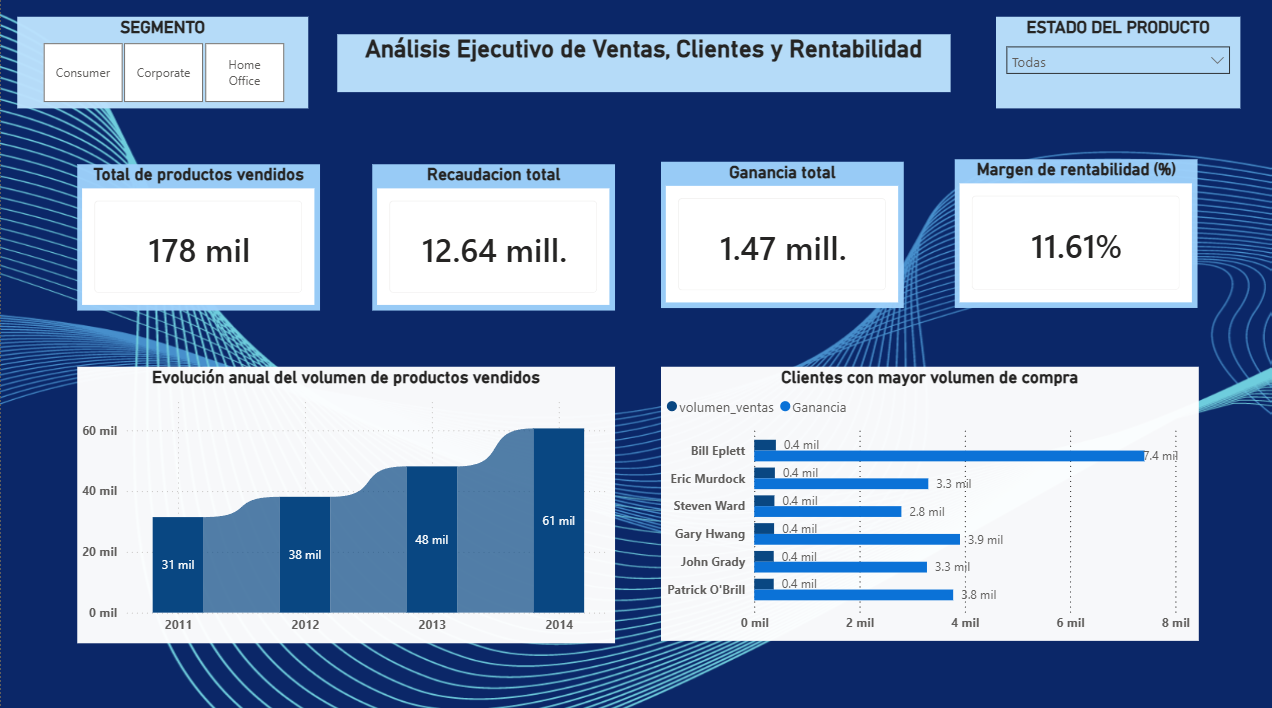

This screenshot's page, from the dashboard's own definition file:
{"tool":"powerbi","page":{"name":"RESUMEN EJECUTIVO","canvas":[1280,720],"ordinal":0},"visuals":[{"type":"cardVisual","title":"Total de productos vendidos","fields":{"Data":["Global_Superstore2.volumen_ventas"]},"box":[76.4,170.4,241.8,145.3],"z":0},{"type":"cardVisual","title":"Recaudacion total","fields":{"Data":["Global_Superstore2.recaudacion"]},"box":[369.5,170.4,241.8,145.3],"z":1000},{"type":"cardVisual","title":"Ganancia total","fields":{"Data":["Global_Superstore2.ganancia"]},"box":[656.4,167.9,241.8,145.3],"z":2000},{"type":"cardVisual","title":"Margen de rentabilidad (%)","fields":{"Data":["Global_Superstore2.%rentabilidad"]},"box":[949.5,165.4,241.8,147.8],"z":3000},{"type":"ribbonChart","title":"Evolución anual del volumen de productos vendidos","fields":{"Category":["Global_Superstore2.Order Date.Variación.Jerarquía de fechas.Año"],"Y":["Global_Superstore2.volumen_ventas"]},"box":[75.9,371.9,534.9,274.9],"z":4000},{"type":"clusteredBarChart","title":"Clientes con mayor volumen de compra","fields":{"Category":["Global_Superstore2.Customer Name"],"Y":["Global_Superstore2.volumen_ventas","Global_Superstore2.ganancia"]},"box":[656.4,372.1,534.9,273.1],"z":5000},{"type":"textbox","title":"Análisis Ejecutivo de Ventas, Clientes y Rentabilidad","box":[334.5,41.3,610.1,57.6],"z":6000},{"type":"slicer","title":"SEGMENTO","fields":{"Values":["Global_Superstore2.Segment"]},"box":[16.3,23.8,289.4,91.4],"z":7000},{"type":"slicer","title":"ESTADO DEL PRODUCTO","fields":{"Values":["Global_Superstore2.Order Priority"]},"box":[989.6,23.8,243,91.4],"z":8000}]}

Visuals, with their boxes in screenshot pixels (x1, y1, x2, y2), scaled from the page's 1280x720 canvas onto the 1272x708 screenshot:
"Total de productos vendidos" cardVisual: (x1=76, y1=168, x2=316, y2=310)
"Recaudacion total" cardVisual: (x1=367, y1=168, x2=607, y2=310)
"Ganancia total" cardVisual: (x1=652, y1=165, x2=893, y2=308)
"Margen de rentabilidad (%)" cardVisual: (x1=944, y1=163, x2=1184, y2=308)
"Evolución anual del volumen de productos vendidos" ribbonChart: (x1=75, y1=366, x2=607, y2=636)
"Clientes con mayor volumen de compra" clusteredBarChart: (x1=652, y1=366, x2=1184, y2=634)
"Análisis Ejecutivo de Ventas, Clientes y Rentabilidad" textbox: (x1=332, y1=41, x2=939, y2=97)
"SEGMENTO" slicer: (x1=16, y1=23, x2=304, y2=113)
"ESTADO DEL PRODUCTO" slicer: (x1=983, y1=23, x2=1225, y2=113)
